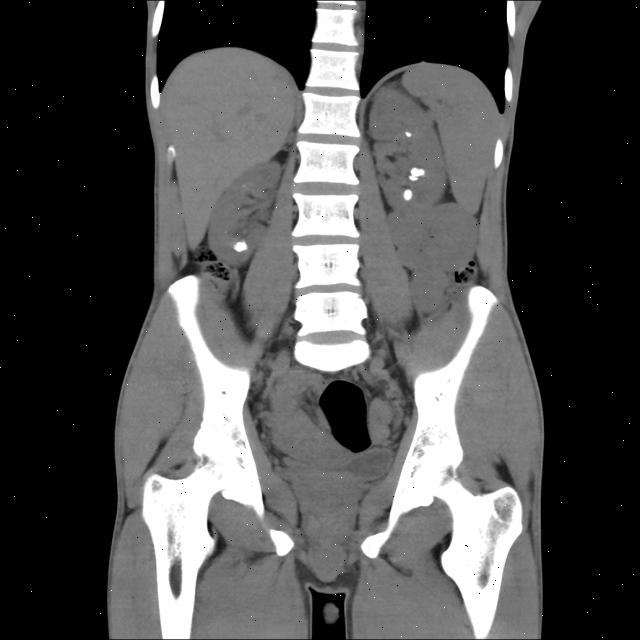kidneystone: (409, 167, 425, 181), (234, 241, 248, 252), (404, 189, 412, 200), (405, 131, 411, 137)
